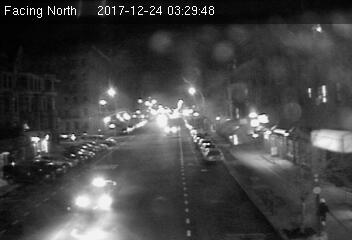car: (73, 177, 123, 210), (203, 146, 222, 161), (164, 123, 177, 135)
